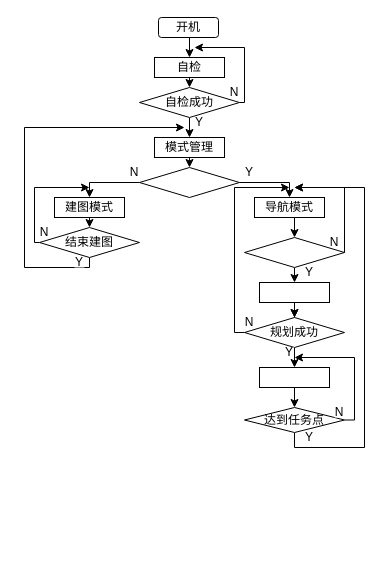
The diagram is 390 pixels wide and 585 high, and some of its shapes have lost their labels. Here are the shapes that lost their labels. From the top down, the centre of each, then its label:
At (x=189, y=182): "有地图".
At (x=294, y=252): "接受到任务".
At (x=294, y=292): "路径规划".
At (x=294, y=377): "跟踪控制".
